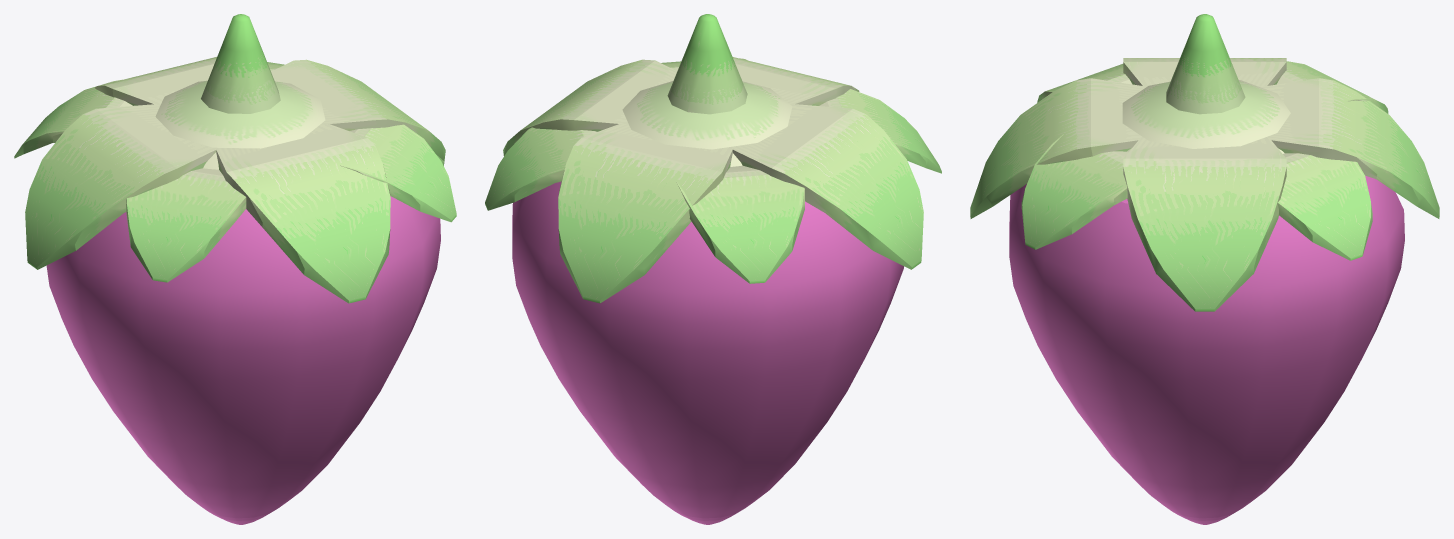
File: StrawberryWithColor(1).fbx
3 renders of one model, left to right at view 1: azimuth 30°, elevation 25°; view 2: azimuth 150°, elevation 25°; view 3: azimuth 270°, elevation 25°, orthographic.
Visible parts, largest first — view 1: Cylinder.001, Cube.014, Cylinder.002; view 2: Cylinder.001, Cube.014, Cylinder.002; view 3: Cylinder.001, Cube.014, Cylinder.002.
Boxes of the visible parts, box(x1,y1,x2,y2) form: Cylinder.001: box(46, 196, 440, 524); Cube.014: box(14, 57, 456, 303); Cylinder.002: box(155, 14, 325, 169); Cylinder.001: box(512, 181, 903, 524); Cube.014: box(485, 57, 941, 303); Cylinder.002: box(622, 14, 792, 166); Cylinder.001: box(1009, 175, 1404, 524); Cube.014: box(970, 58, 1439, 311); Cylinder.002: box(1122, 14, 1290, 153).
Bounding box in the file's own units: 290 × 346 × 290.
